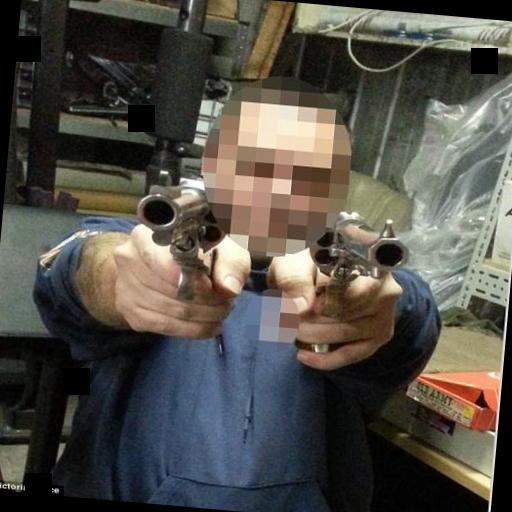Handgun: (290, 200, 412, 364), (126, 176, 223, 304)
